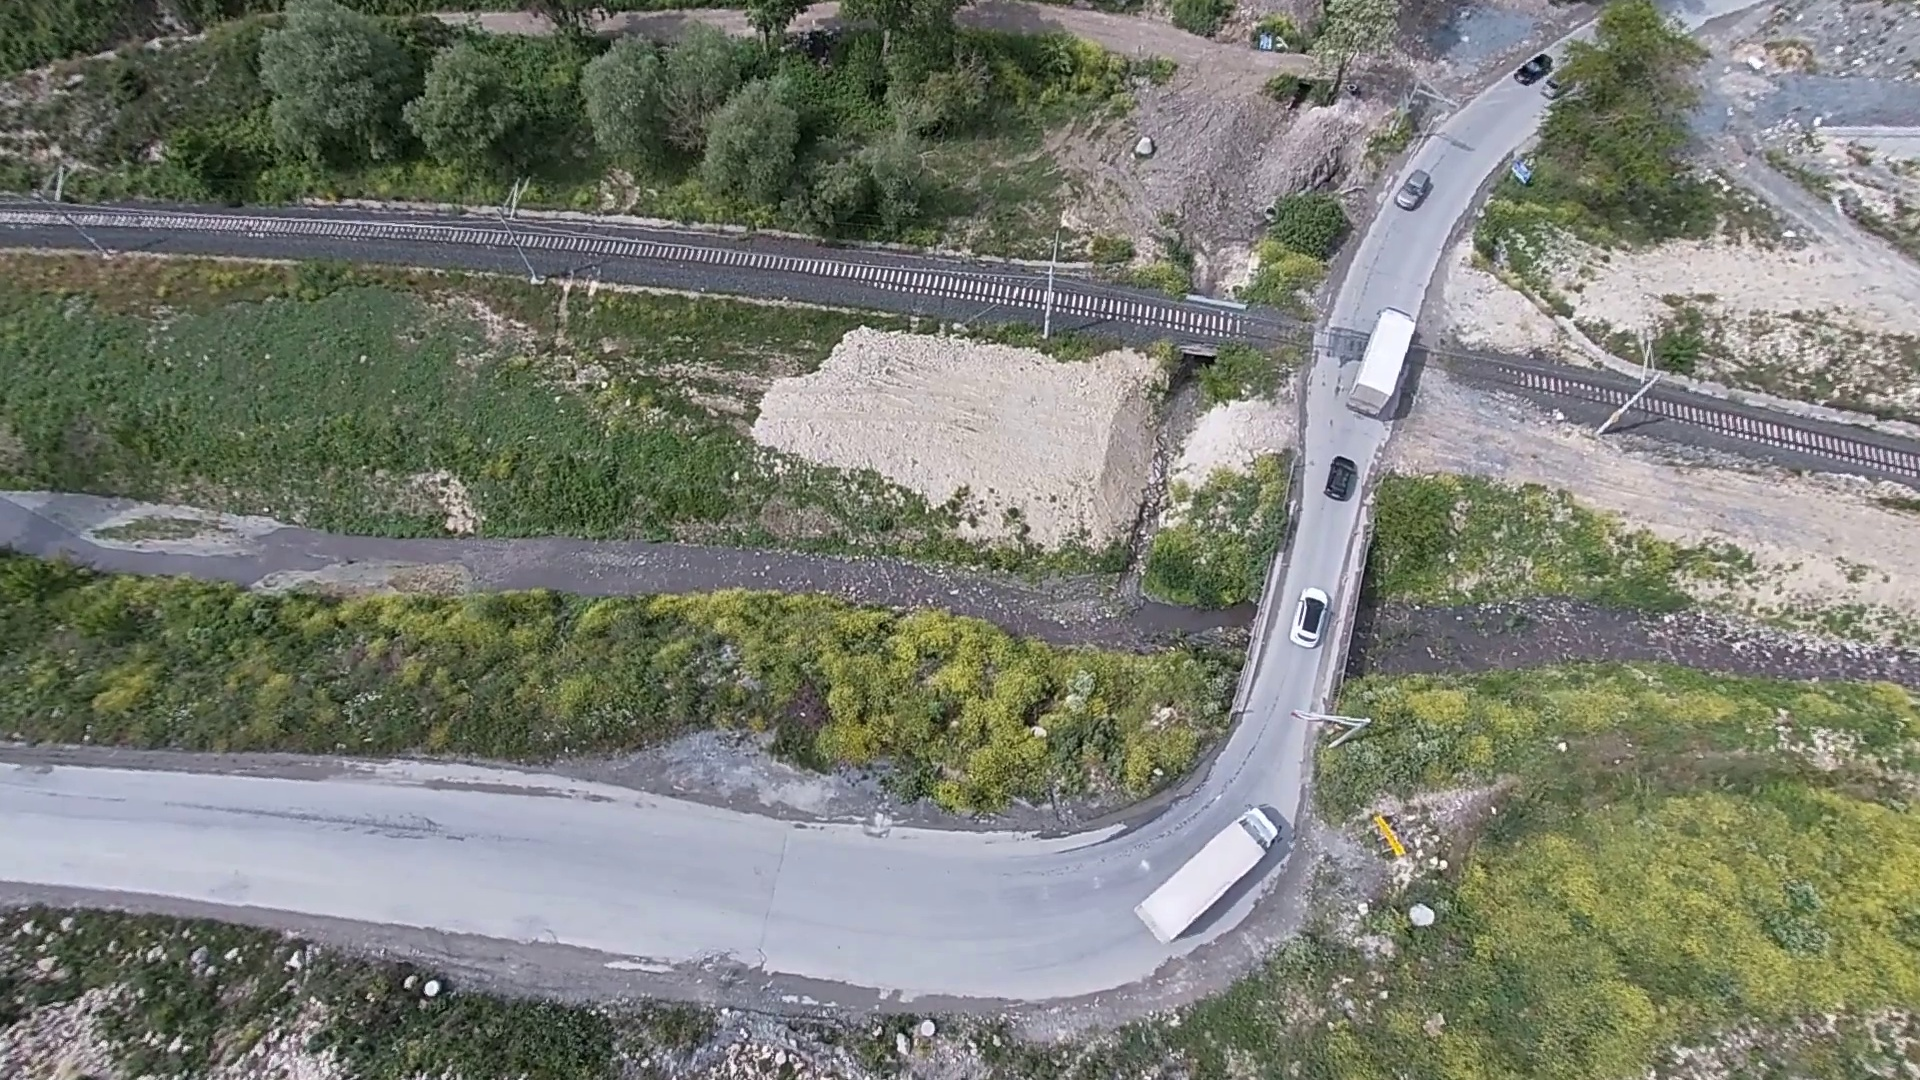arac: (1134, 804, 1294, 957), (1353, 307, 1420, 425), (1284, 583, 1335, 655), (1317, 454, 1365, 512), (1391, 167, 1433, 229), (1513, 51, 1549, 82)
